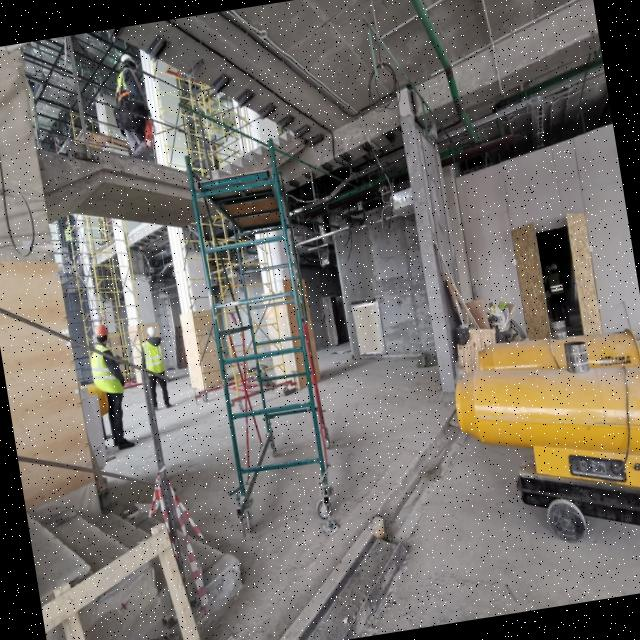Helmet: (119, 53, 140, 74), (95, 324, 111, 347), (147, 327, 158, 340)
